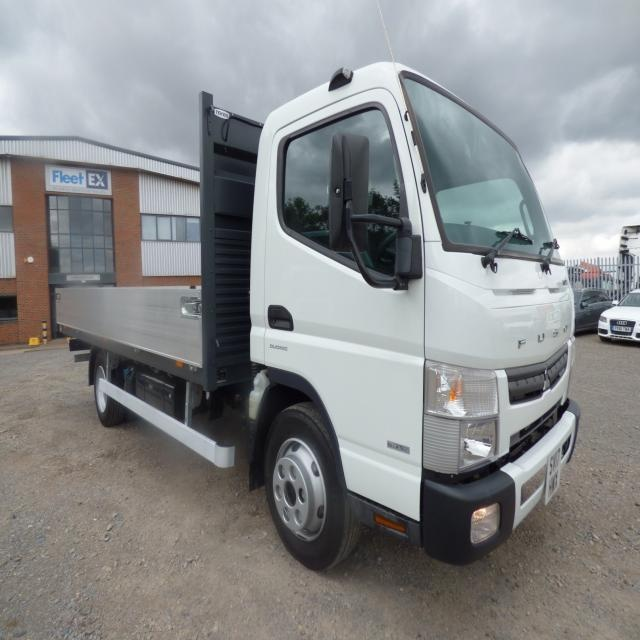Car: (598, 292, 640, 345)
Truck: (51, 56, 580, 564)
